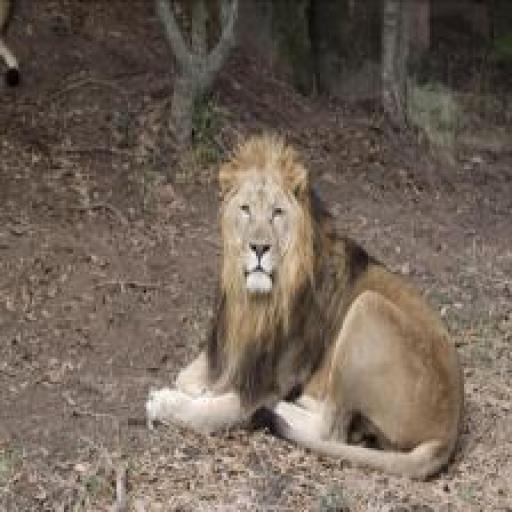lion: (144, 121, 464, 479)
